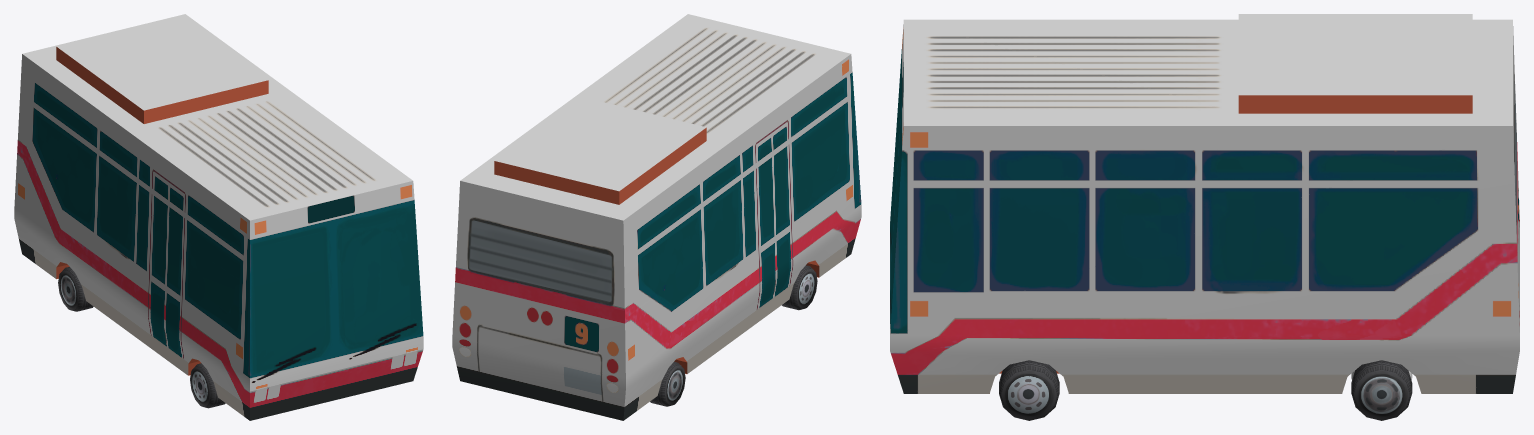
Rendered from Bus.fbx.
3 views of the same model, side by side, from view 1: azimuth 30°, elevation 25°; view 2: azimuth 150°, elevation 25°; view 3: azimuth 270°, elevation 25° (orthographic). The views are drawn at different scales.
Visible parts, largest first — view 1: bus, wheel_2, wheel_5; view 2: bus, wheel_5, wheel_2; view 3: bus, wheel_4, wheel_6.
Boxes of the visible parts, left/top/right/bottom form: bus: left=14, top=14, right=423, bottom=420; wheel_2: left=58, top=267, right=93, bottom=311; wheel_5: left=190, top=363, right=225, bottom=408; bus: left=452, top=14, right=861, bottom=420; wheel_5: left=782, top=265, right=817, bottom=310; wheel_2: left=650, top=361, right=685, bottom=406; bus: left=890, top=14, right=1519, bottom=393; wheel_4: left=1351, top=360, right=1412, bottom=420; wheel_6: left=999, top=360, right=1059, bottom=420.
Bounding box in the file's own units: 253 × 327 × 596.
Materials: 1 (1 with a texture image).
